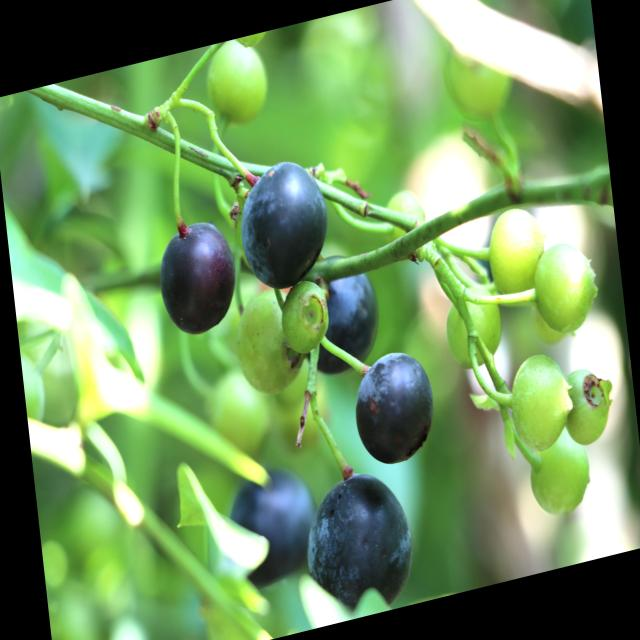blueberry: (294, 461, 422, 624), (233, 150, 336, 304), (223, 453, 319, 592), (293, 243, 385, 383), (154, 210, 243, 345), (350, 344, 441, 473)
blueberry-unripe: (228, 281, 304, 401), (499, 342, 574, 462), (528, 233, 604, 346), (482, 200, 548, 304), (439, 280, 507, 374), (526, 432, 596, 520), (205, 38, 268, 128), (560, 360, 613, 446), (278, 276, 332, 352)
